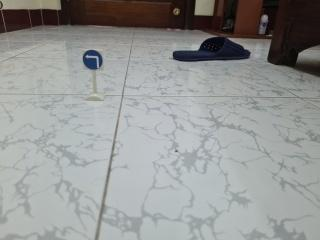left: (76, 38, 114, 74)
